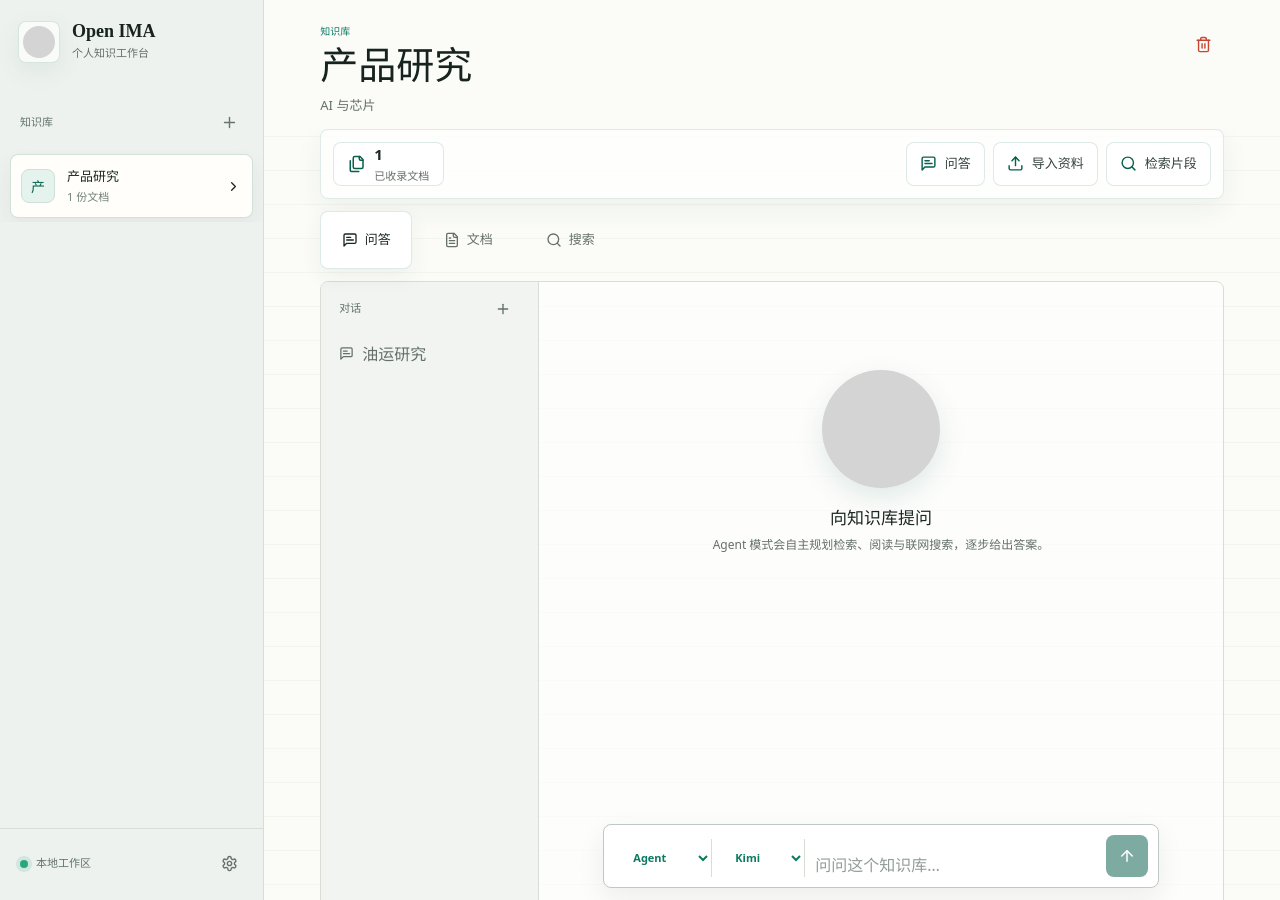
Test: App › turns inline citation markers into buttons that reveal the source
What coordinates should you click on to do the following:
click the button "油运研究"
I would click on:
 (430, 354)
Its box is [330,332,529,376].
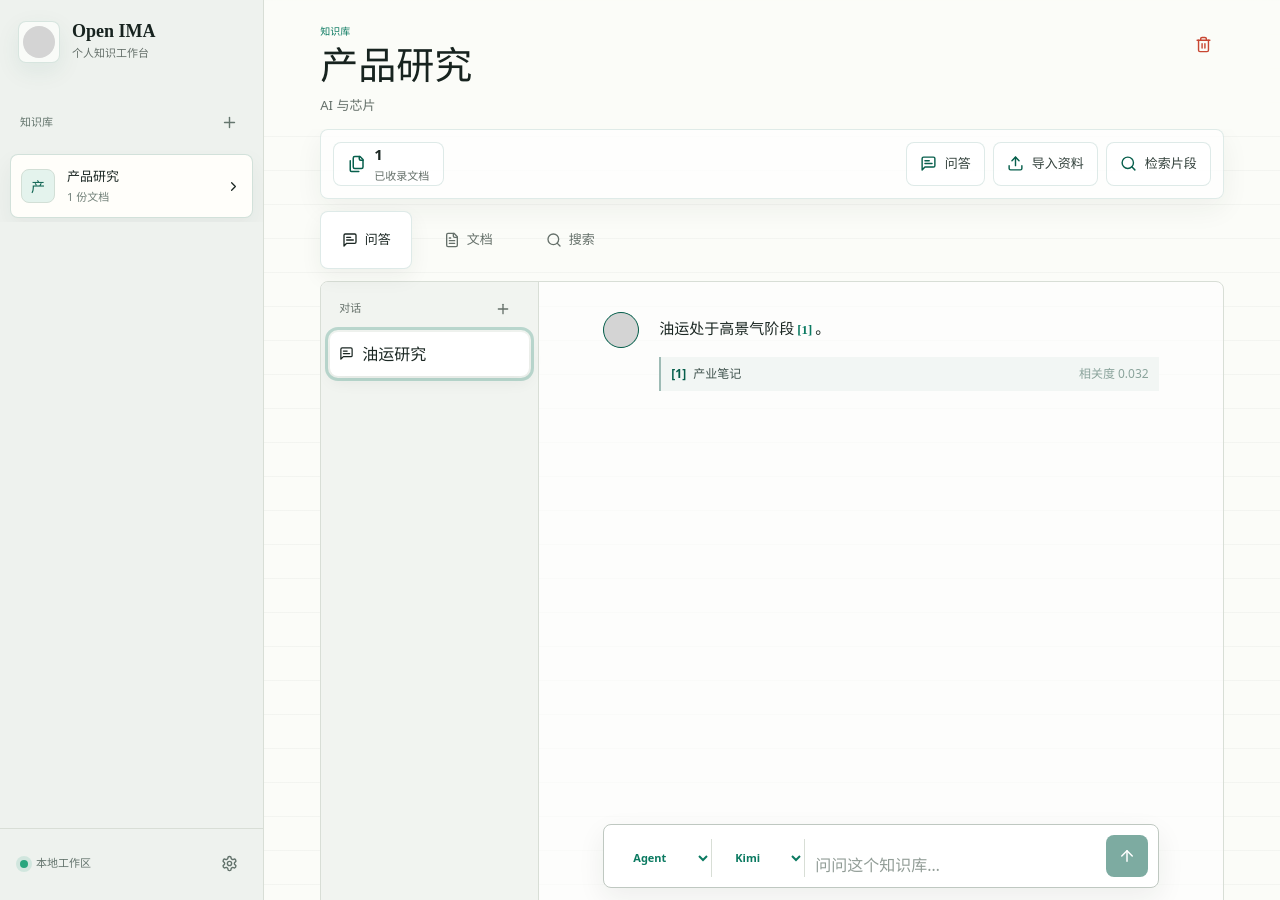
expect the button named "引用 1：产业笔记" reads "[1]": met
What coordinates should you click on to do the following:
click the button named "引用 1：产业笔记"
I would click on:
 (805, 331)
Its box is [794,320,815,342].
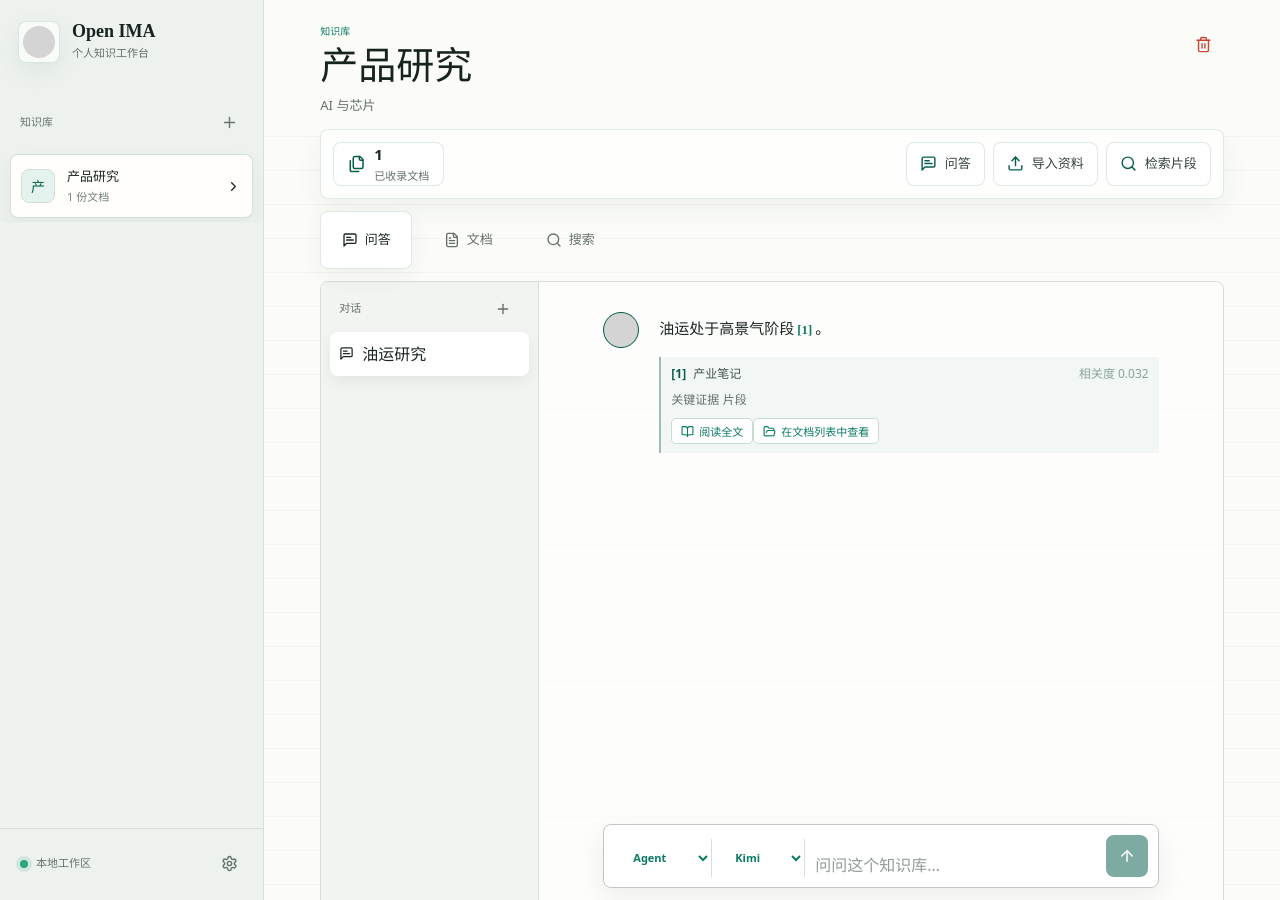
expect the text "关键证据 片段" is shown: met, box [671,394,747,408]
